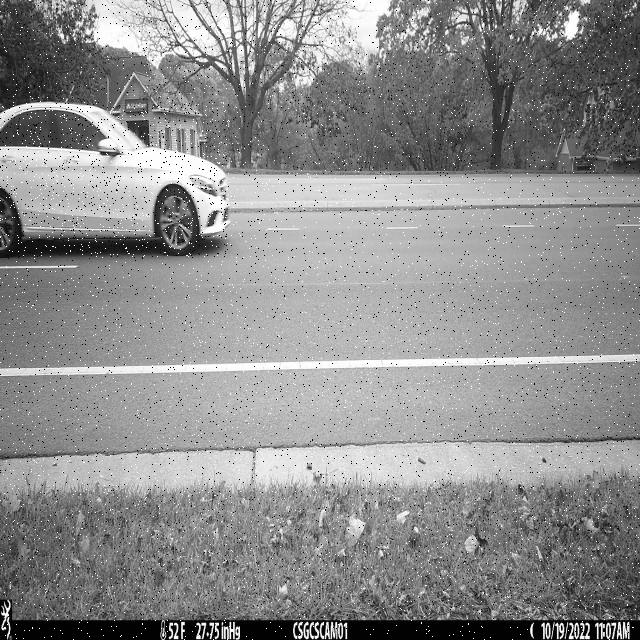Sedan: (0, 102, 229, 257)
